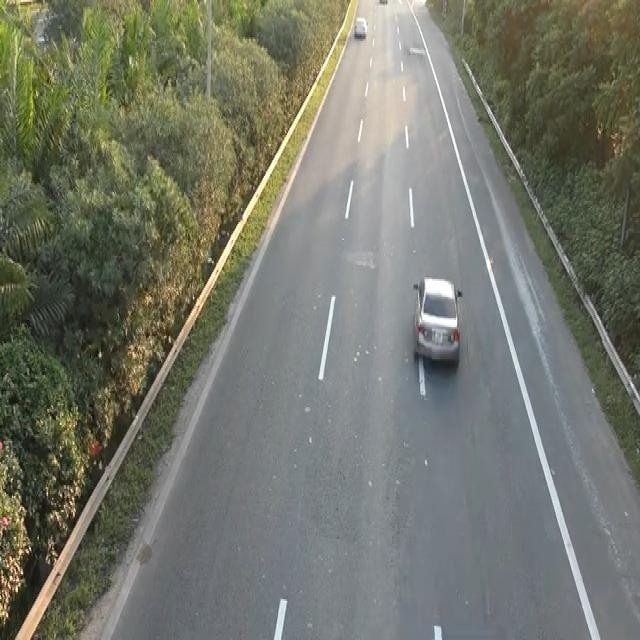bus: (410, 272, 463, 366)
